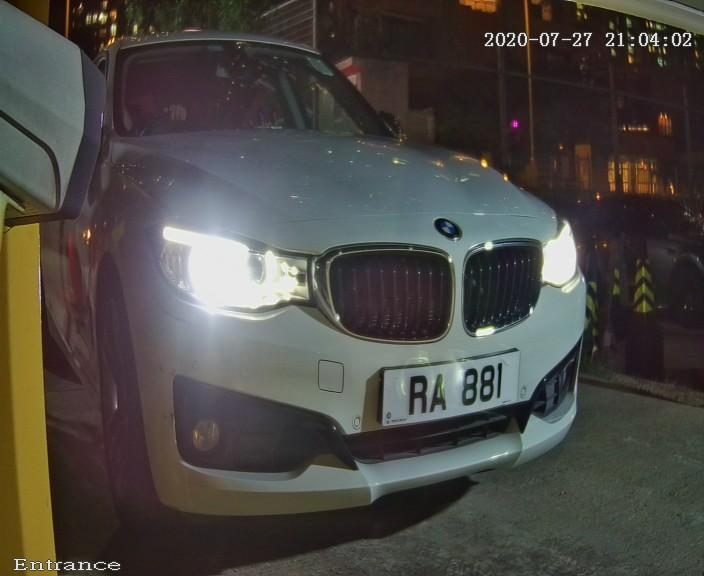privatecar: (63, 19, 604, 535)
